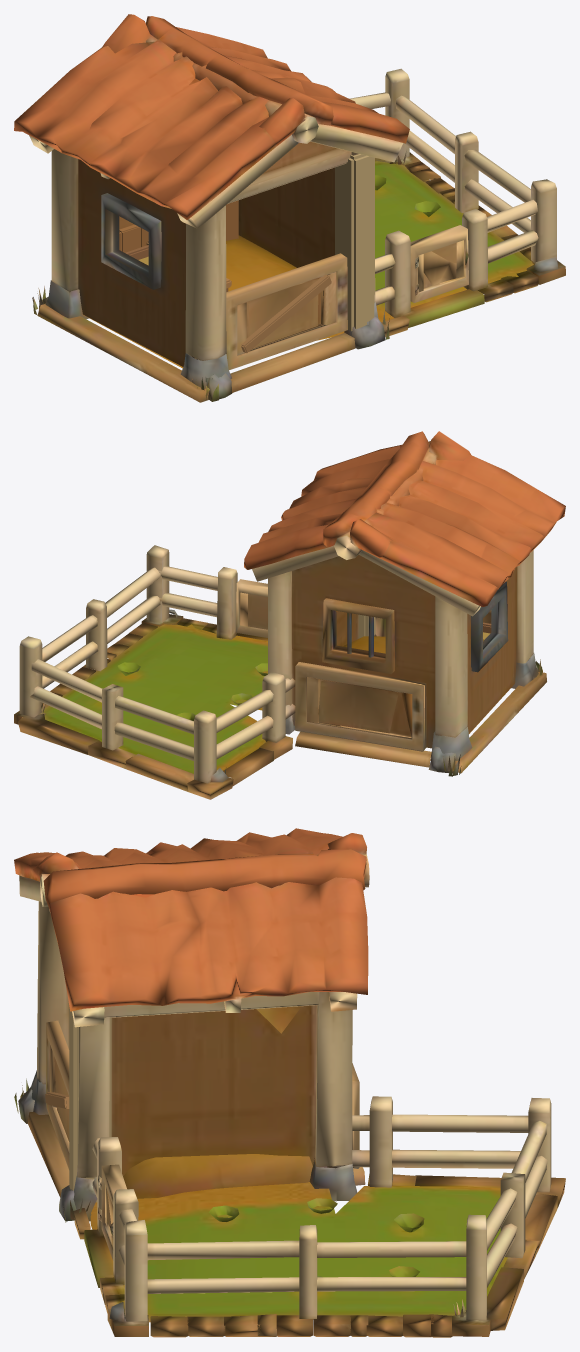
3 views of the same model, one above another, from view 1: azimuth 30°, elevation 25°; view 2: azimuth 150°, elevation 25°; view 3: azimuth 270°, elevation 25° (orthographic). The views are drawn at different scales.
Parts seen in each view (by area): view 1: tripo_node_1ab5f93f-4f39-4ac6-bcbe-408c19fe9d91, 외형 세부; view 2: tripo_node_1ab5f93f-4f39-4ac6-bcbe-408c19fe9d91; view 3: tripo_node_1ab5f93f-4f39-4ac6-bcbe-408c19fe9d91, 외형 세부.
Part boxes in pixels (x1,y1,x2,y2): tripo_node_1ab5f93f-4f39-4ac6-bcbe-408c19fe9d91: (14,14,565,402); 외형 세부: (119,154,374,352); tripo_node_1ab5f93f-4f39-4ac6-bcbe-408c19fe9d91: (14,431,565,799); tripo_node_1ab5f93f-4f39-4ac6-bcbe-408c19fe9d91: (14,828,565,1337); 외형 세부: (45,1007,111,1202).
Bounding box in the file's own units: 8 × 4.44 × 7.01.
Materials: 2 (1 with a texture image).
